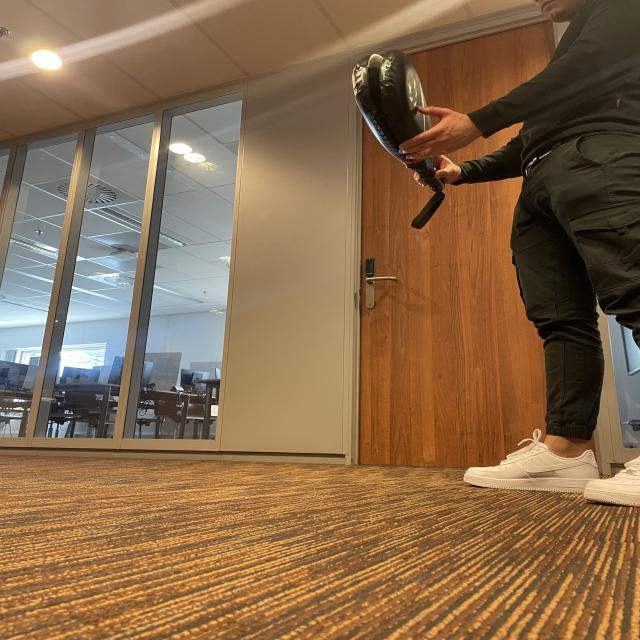paddle: (348, 52, 431, 135)
